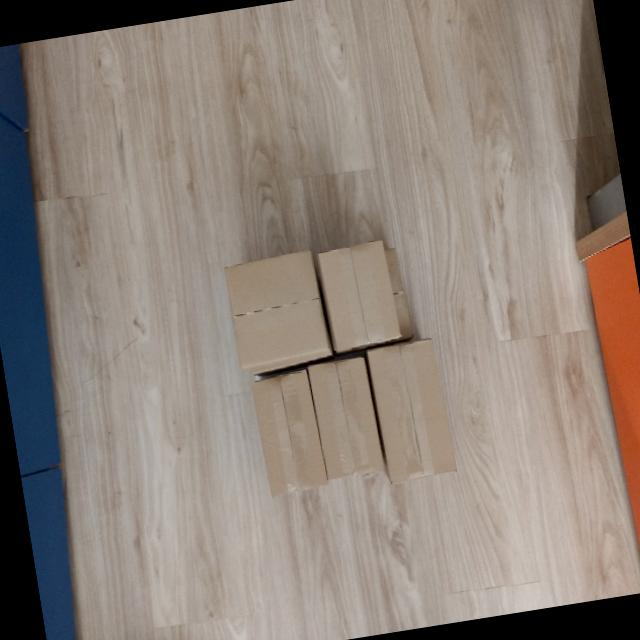box: (362, 334, 466, 486), (218, 246, 334, 375), (245, 368, 331, 500), (303, 353, 386, 483), (314, 234, 407, 350)
